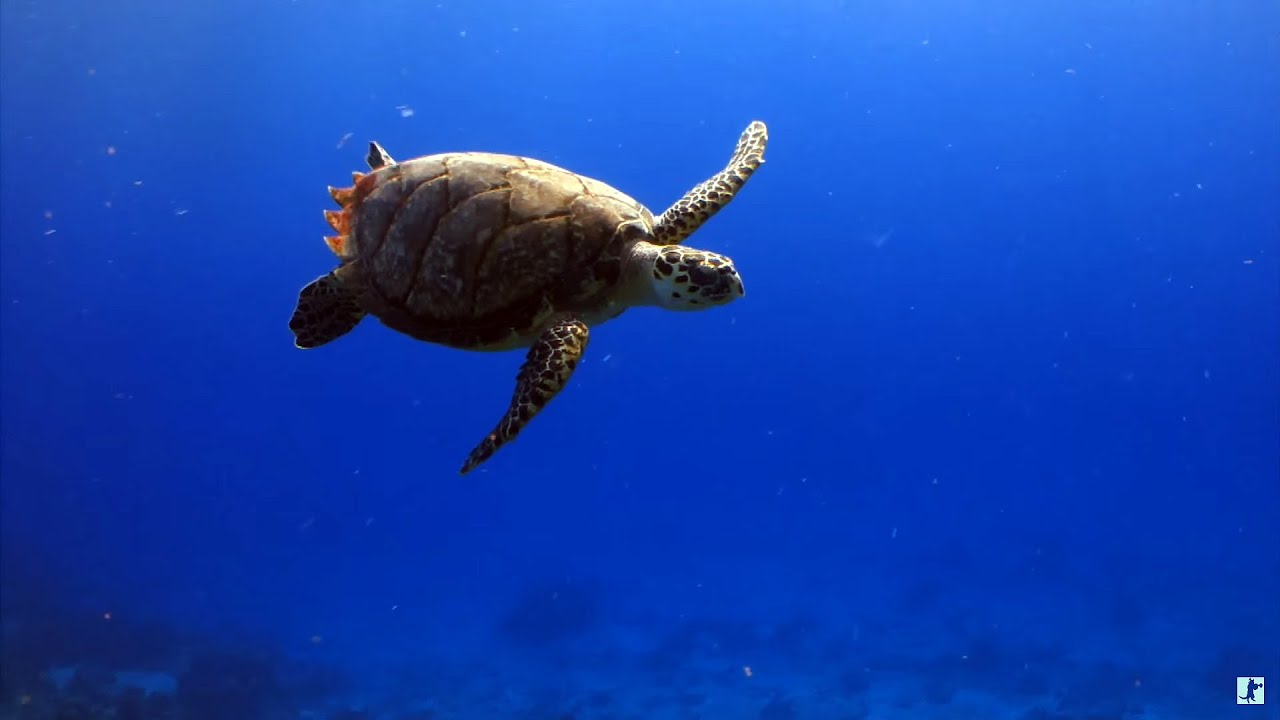trutle: (290, 86, 795, 479)
